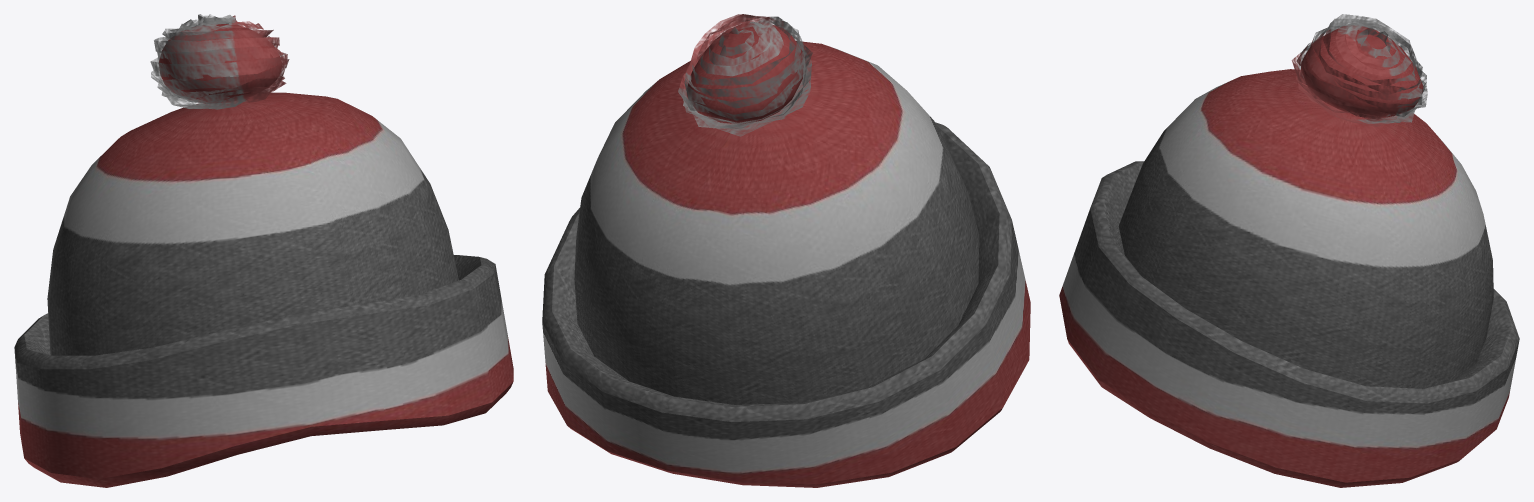
File: beanie.glb
The picture shows the model from 3 angles, left to right: view 1: azimuth 30°, elevation 25°; view 2: azimuth 150°, elevation 25°; view 3: azimuth 270°, elevation 25°; orthographic projection. The views are drawn at different scales.
Visible parts, largest first — view 1: Cube; view 2: Cube; view 3: Cube.
Boxes of the visible parts, left/top/right/bottom form: Cube: left=14, top=14, right=513, bottom=487; Cube: left=542, top=14, right=1030, bottom=487; Cube: left=1059, top=14, right=1519, bottom=487.
Size of the model in its own units: 0.8364 by 0.7528 by 0.8308.
Materials: 2 (2 with a texture image).
